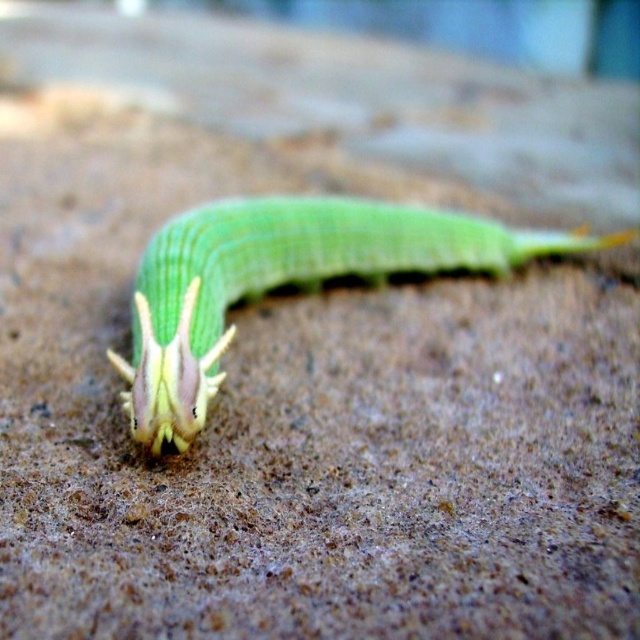Caterpillar: (106, 198, 521, 451)
